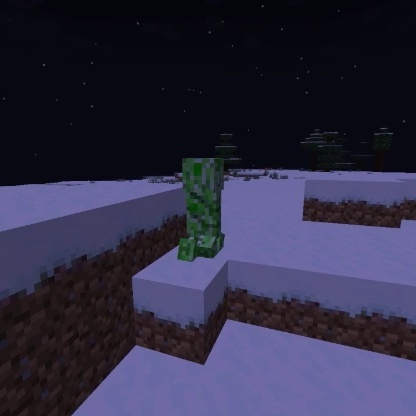creeper: (174, 154, 229, 265)
